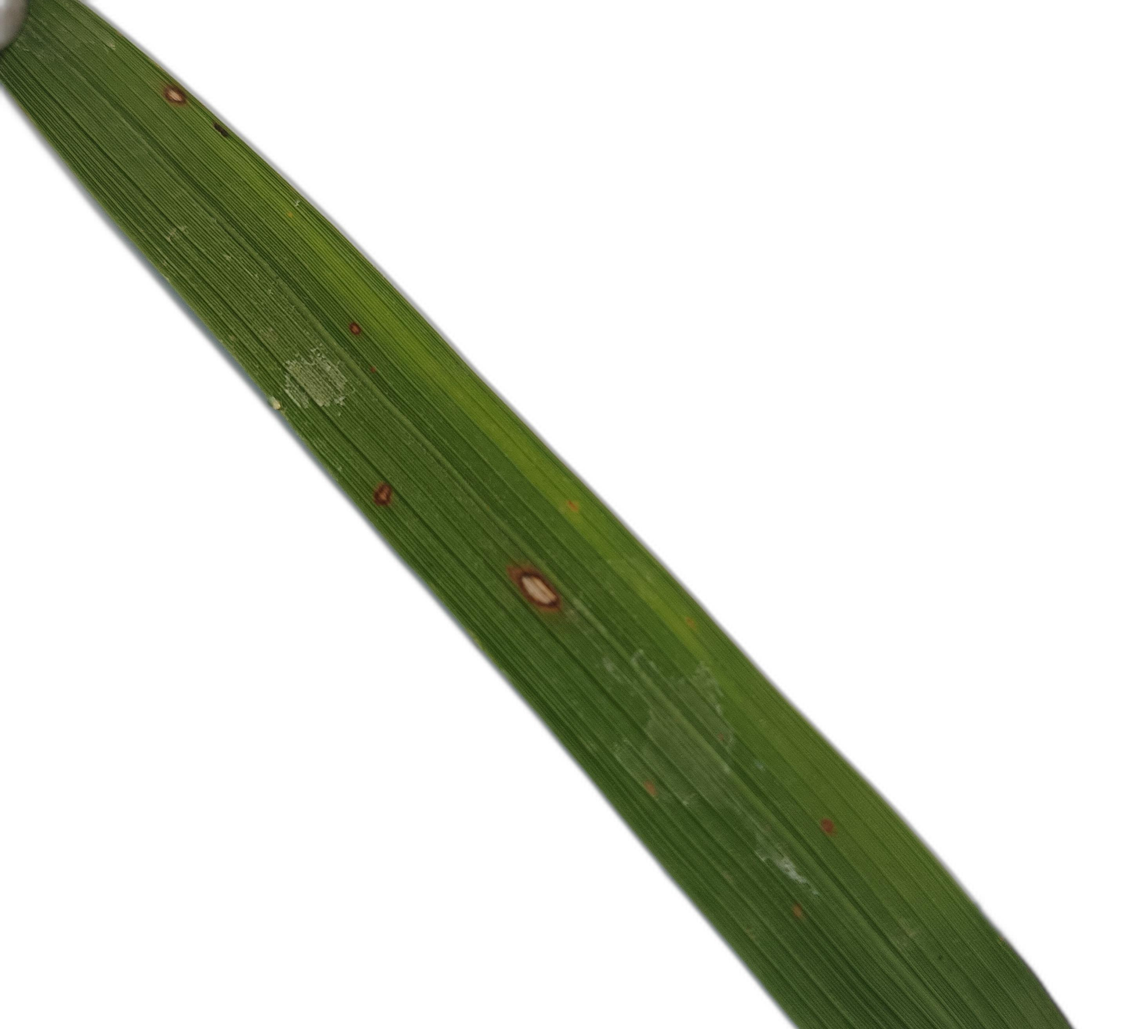LEAF BLAST: (505, 565, 564, 613), (163, 84, 187, 107), (374, 482, 392, 503), (347, 320, 362, 335)
